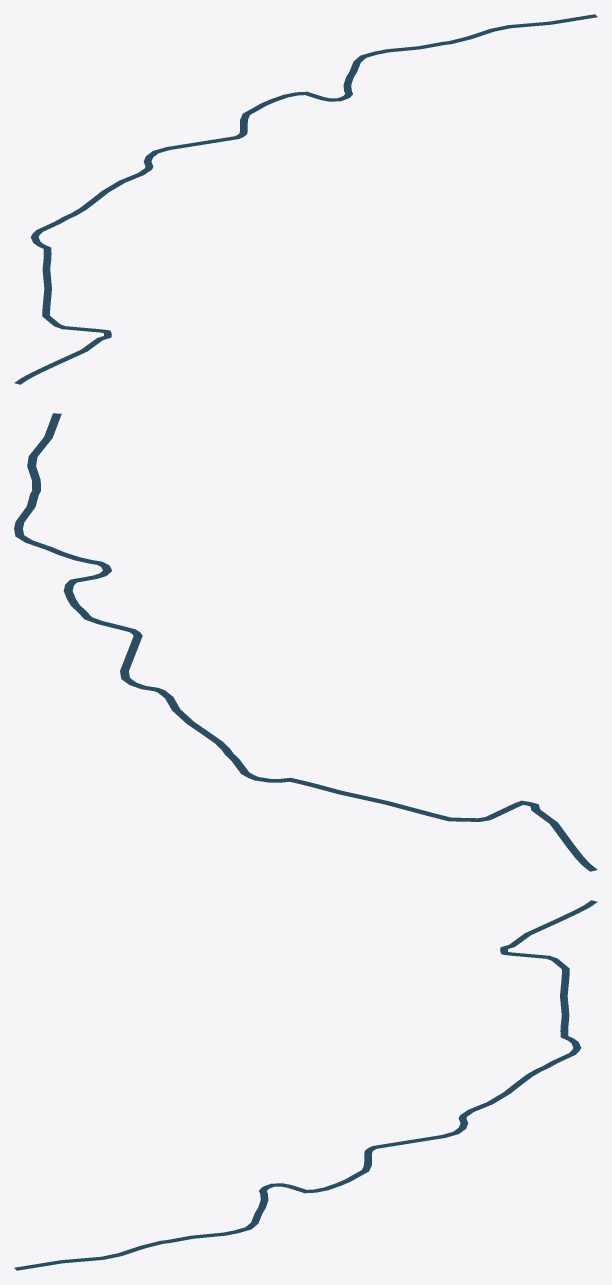
3 renders of one model, top to bottom at view 1: azimuth 90°, elevation 25°; view 2: azimuth 150°, elevation 25°; view 3: azimuth 270°, elevation 25°, orthographic. The views are drawn at different scales.
Visible parts, largest first — view 1: Water__r-3c-13; view 2: Water__r-3c-13; view 3: Water__r-3c-13.
Part boxes in pixels (x1,y1,x2,y2): Water__r-3c-13: (14, 14, 597, 384); Water__r-3c-13: (14, 413, 597, 871); Water__r-3c-13: (14, 900, 597, 1270).
Bounding box in the file's own units: 1592 × 0 × 1060.
